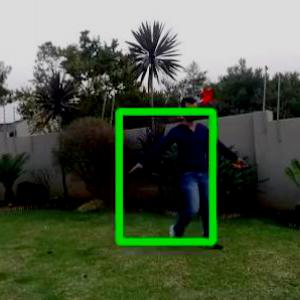land: (126, 96, 251, 250)
